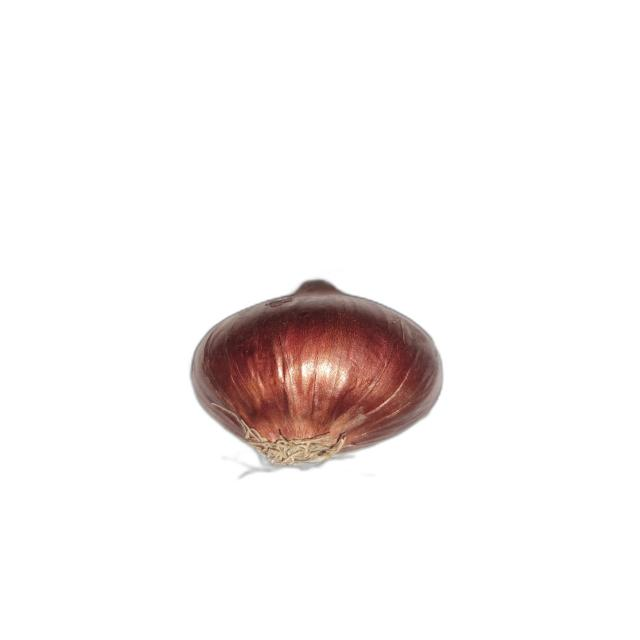onion: (187, 277, 445, 467)
